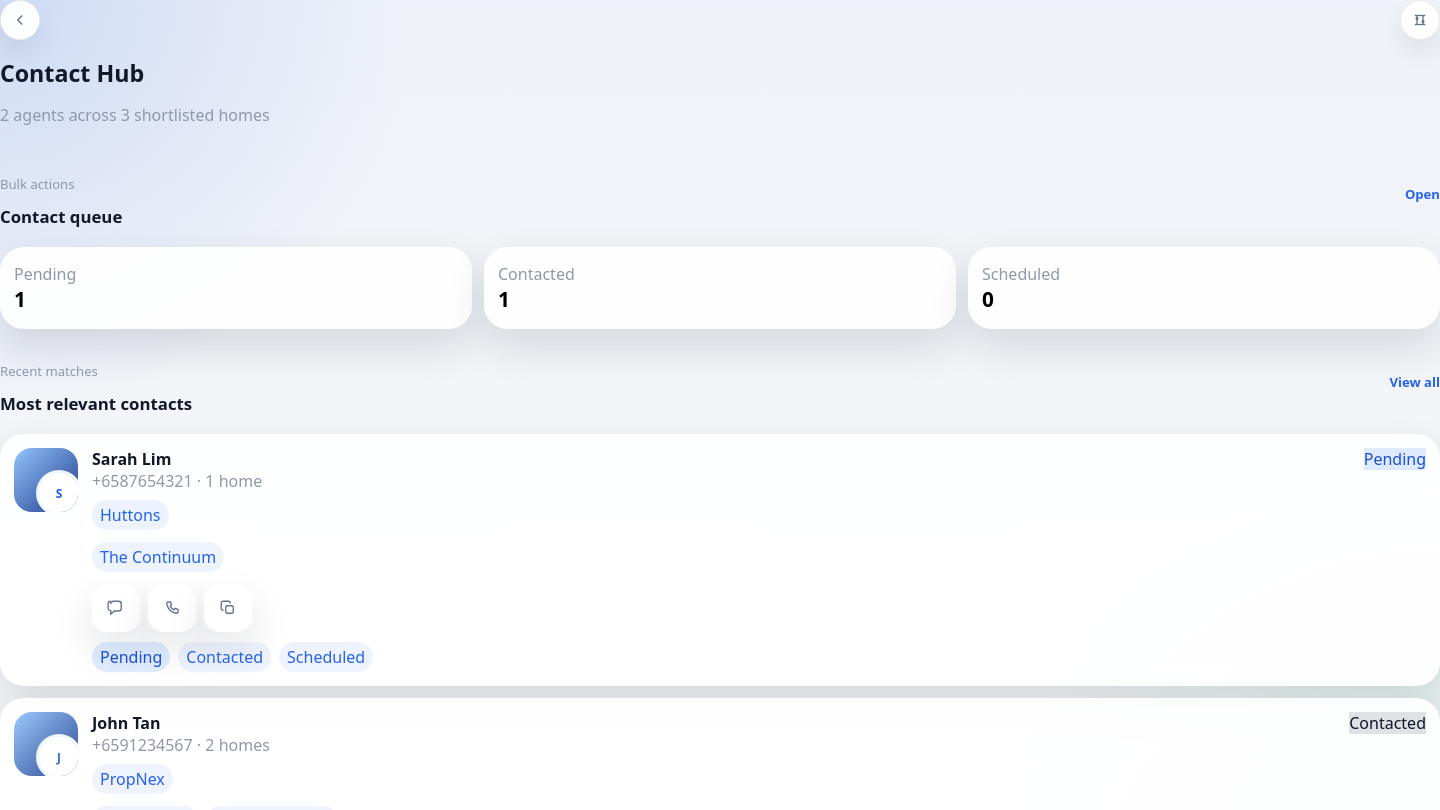
ContactsScreen › filters derived contacts and applies per-contact quick actions
Expected: the text "2 agents across 3 shortlisted homes" is shown, [0, 104, 270, 126]
Expected: the button "Contacted 1" is shown, [484, 247, 956, 329]
Click the button "Pending 1".
click(45, 274)  # box [0, 247, 472, 329]
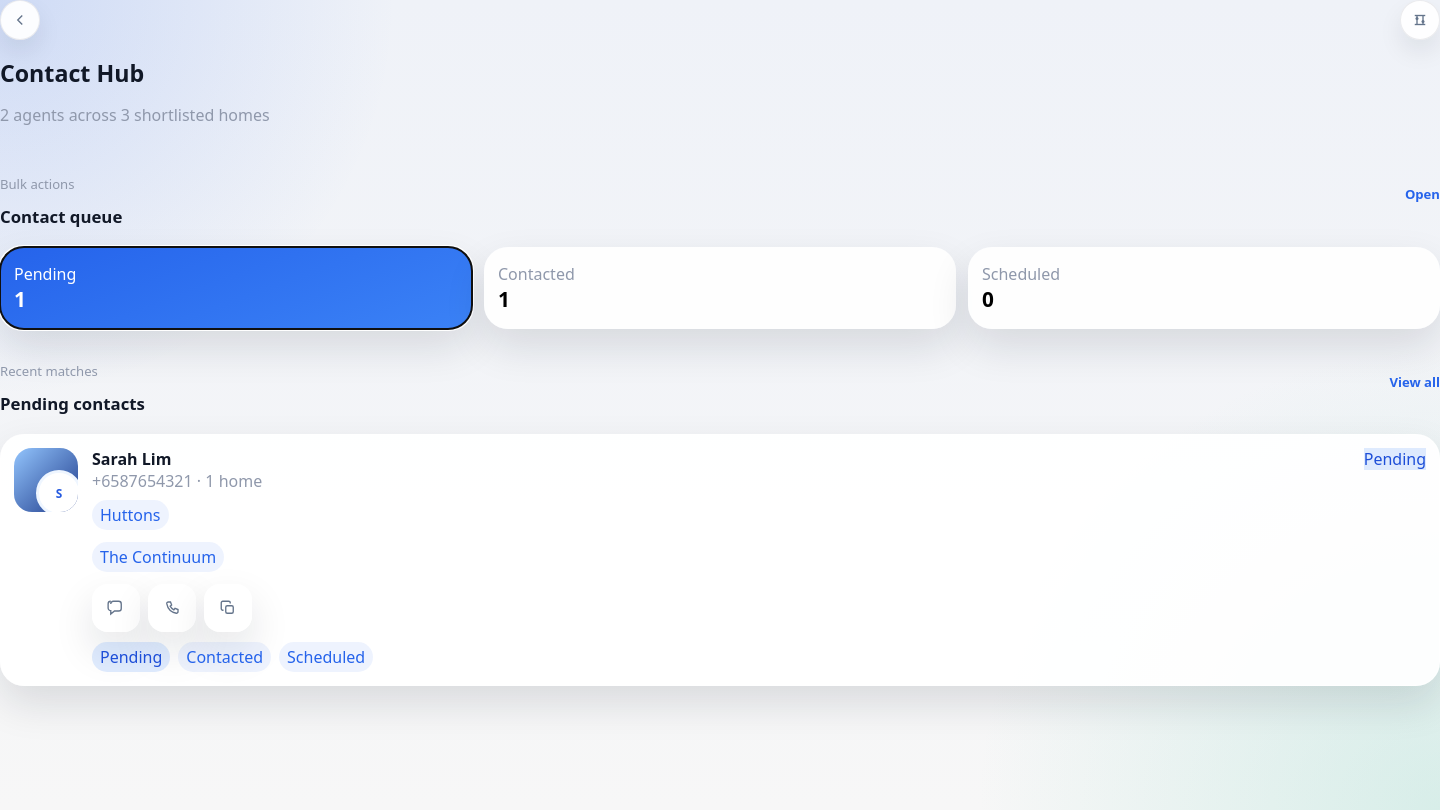
Expected: the text "Sarah Lim" is shown, [92, 448, 171, 470]
Expected: the text "John Tan" is gone
Click the button named "Copy Sarah Lim phone number".
click(228, 608)  # box [204, 584, 252, 632]
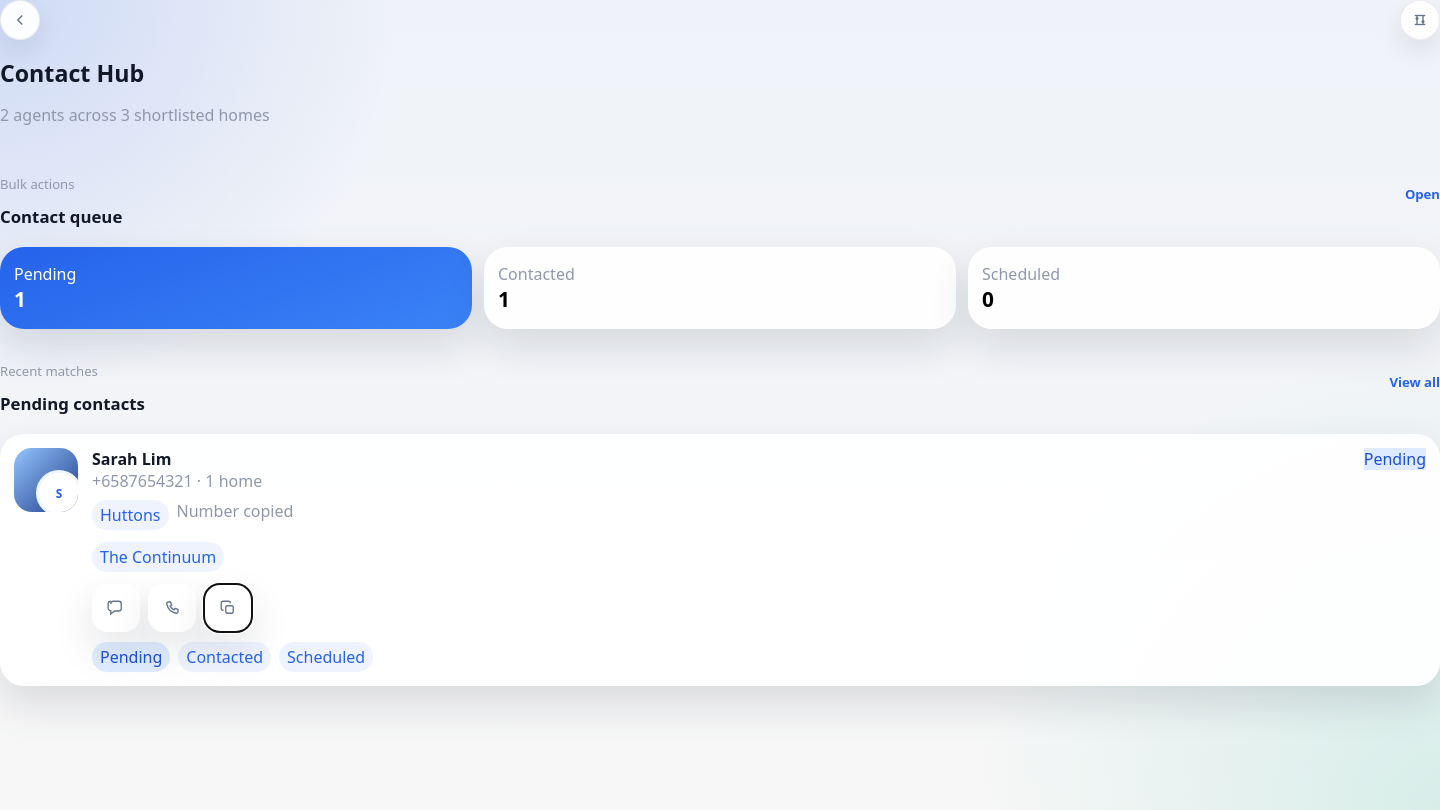
Expected: the message reads "Number copied", [176, 500, 293, 522]
Click the button "Scheduled".
click(326, 657)  # box [279, 642, 373, 672]
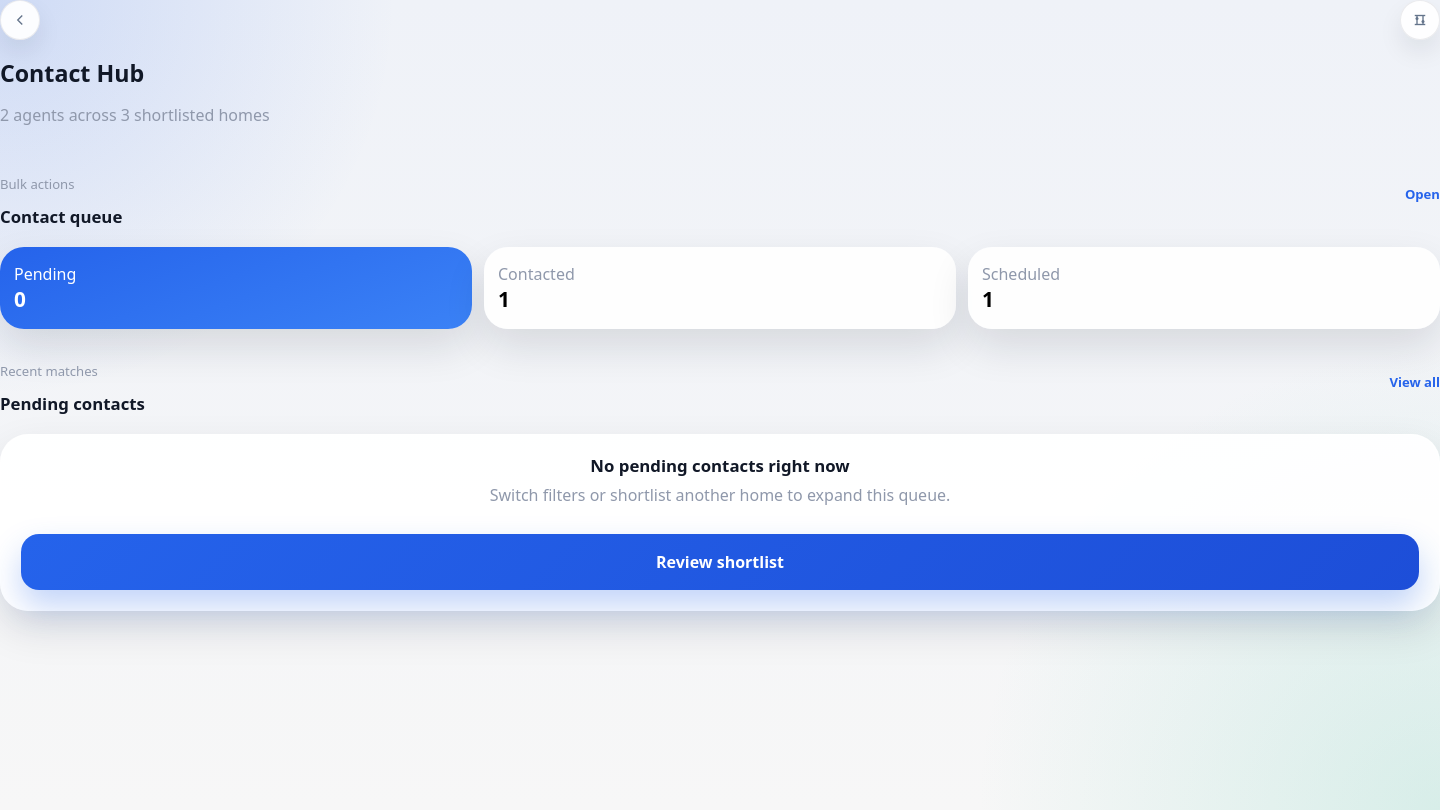
Expected: the heading "No pending contacts right now" is shown, [590, 454, 850, 477]
Expected: the button "Pending 0" is shown, [0, 247, 472, 329]
Expected: the button "Scheduled 1" is shown, [968, 247, 1439, 329]
